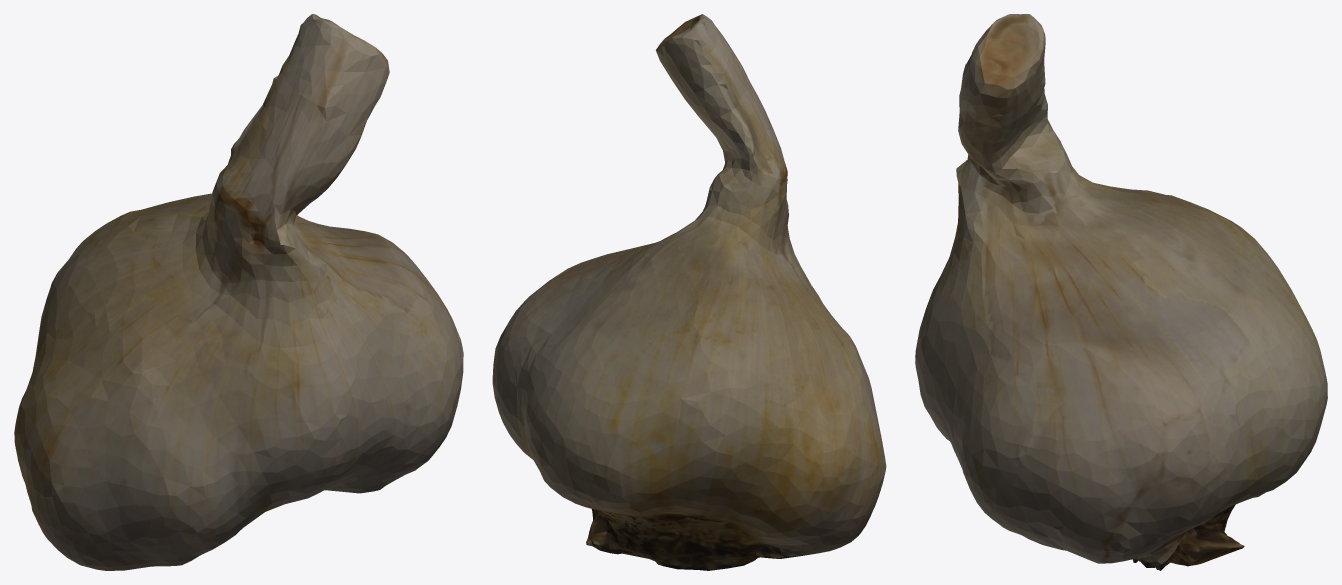
File: Garlic.obj
3 renders of one model, left to right at view 1: azimuth 30°, elevation 25°; view 2: azimuth 150°, elevation 25°; view 3: azimuth 270°, elevation 25°, orthographic. The views are drawn at different scales.
Parts seen in each view (by area): view 1: Garlic; view 2: Garlic; view 3: Garlic.
Part boxes in pixels (x1=…): Garlic: x1=14, y1=14, x2=463, y2=570; Garlic: x1=492, y1=14, x2=886, y2=570; Garlic: x1=915, y1=14, x2=1327, y2=570.
Size of the model in its own units: 15.73 by 20.78 by 13.67.
